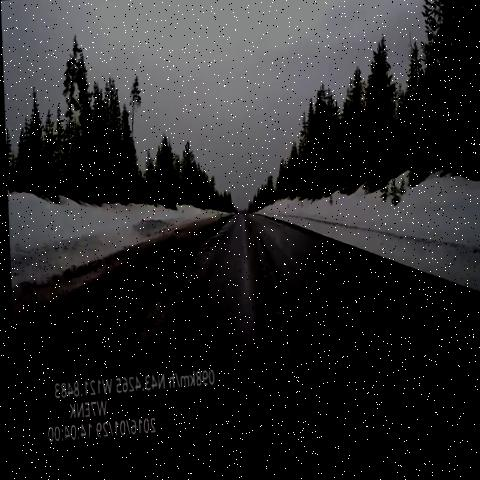pothole: (89, 308, 153, 387), (194, 221, 225, 271), (159, 265, 194, 305), (142, 291, 174, 324)
